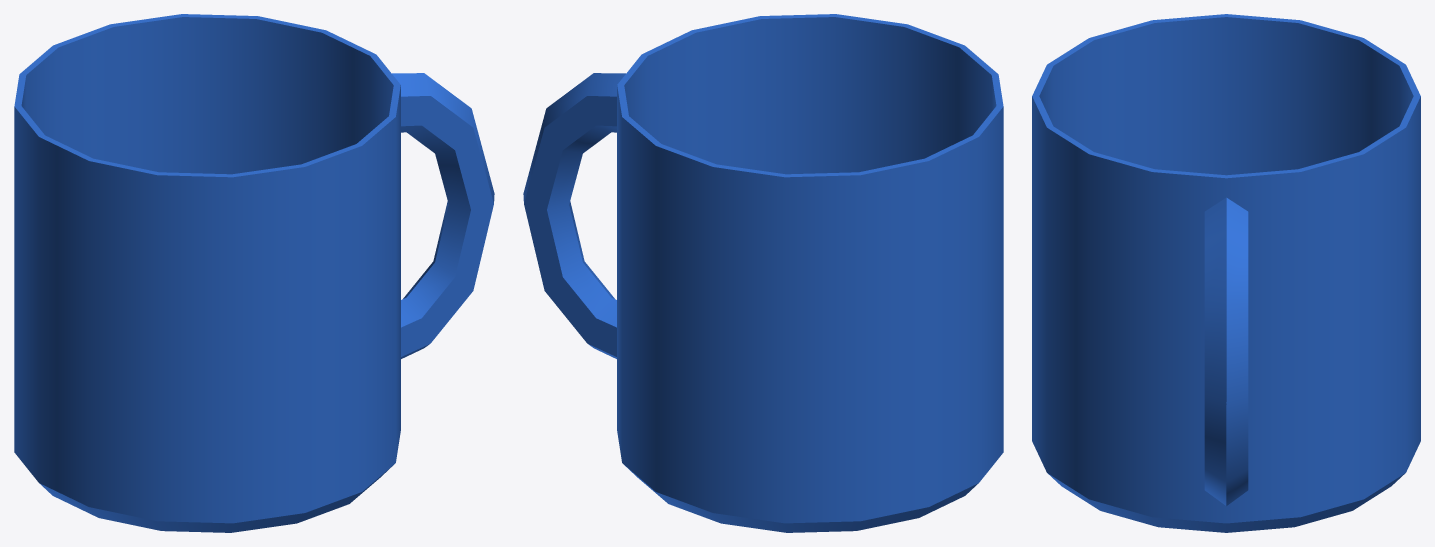
Rendered from Taza10.fbx.
The picture shows the model from 3 angles, left to right: view 1: azimuth 30°, elevation 25°; view 2: azimuth 150°, elevation 25°; view 3: azimuth 270°, elevation 25°; orthographic projection.
Visible parts, largest first — view 1: Taza10; view 2: Taza10; view 3: Taza10.
Part boxes in pixels (box(x1,y1,x2,y2)): Taza10: box(14, 14, 494, 532); Taza10: box(523, 14, 1003, 532); Taza10: box(1032, 14, 1420, 532).
Bounding box in the file's own units: 10.46 × 7.95 × 7.75.
